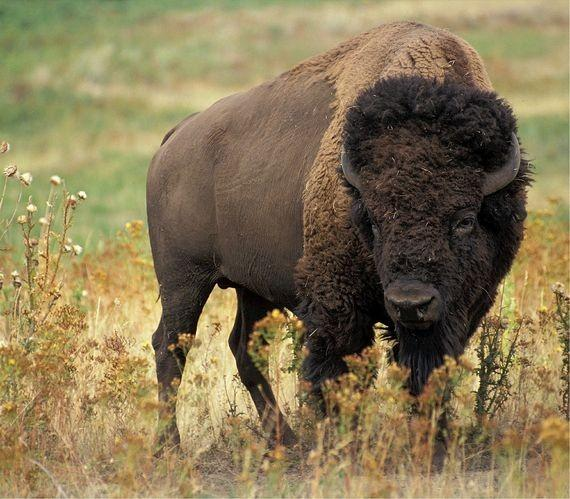zubr: (101, 11, 551, 475)
